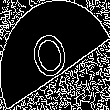O_SE: (31, 22, 79, 88)
